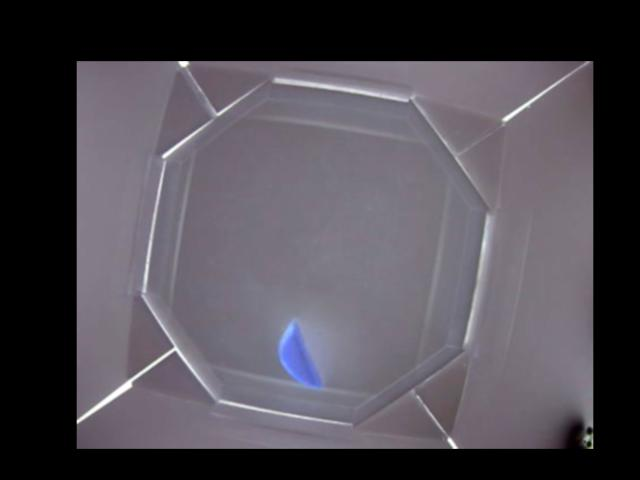Potato: (276, 320, 323, 389)
